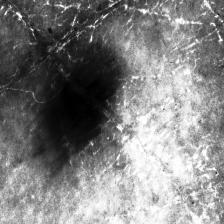Benign Marking or Mole: (48, 64, 114, 140)
